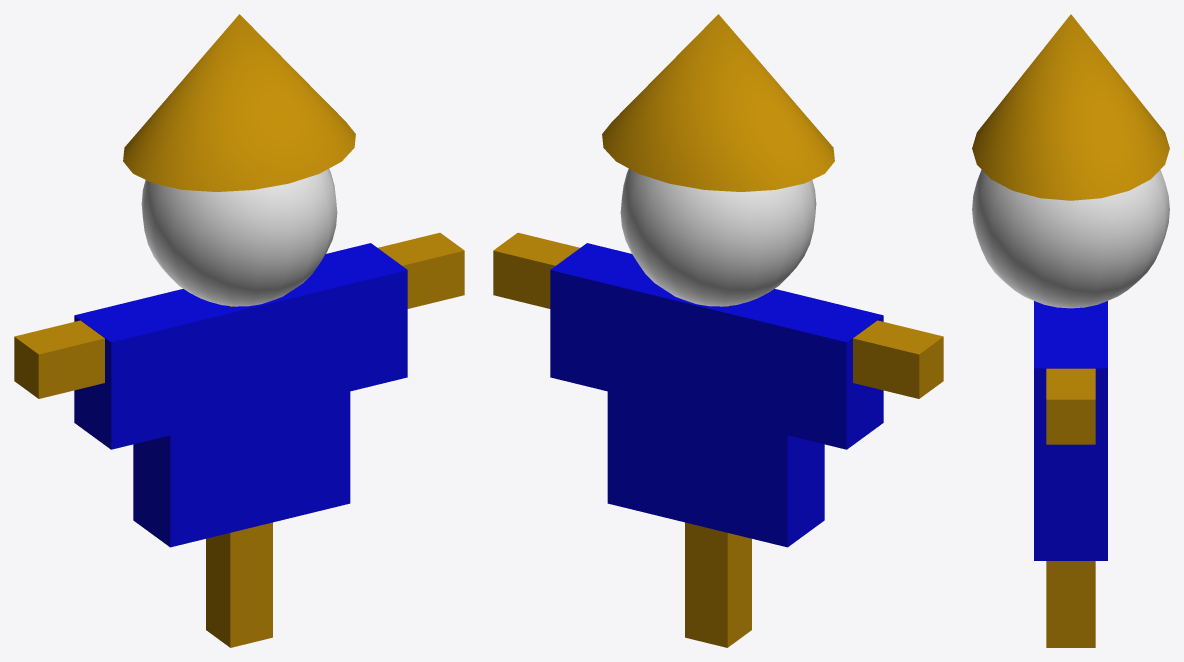
File: kakasi.fbx
The picture shows the model from 3 angles, left to right: view 1: azimuth 30°, elevation 25°; view 2: azimuth 150°, elevation 25°; view 3: azimuth 270°, elevation 25°; orthographic projection.
Visible parts, largest first — view 1: polySurface13; view 2: polySurface13; view 3: polySurface13.
Boxes of the visible parts, box(x1,y1,x2,y2) form: polySurface13: box(14, 14, 464, 647); polySurface13: box(493, 14, 943, 647); polySurface13: box(972, 14, 1169, 647).
Bounding box in the file's own units: 1 × 1.39 × 0.4.
